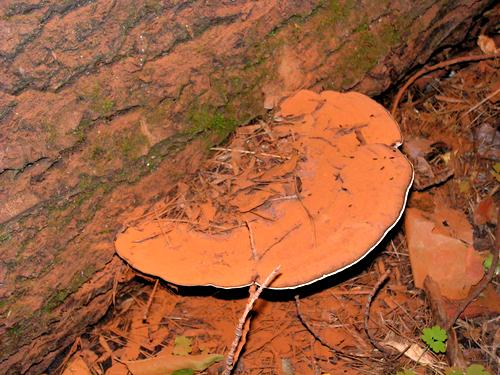Ganoderma - Fruit Body: (116, 86, 419, 294)
